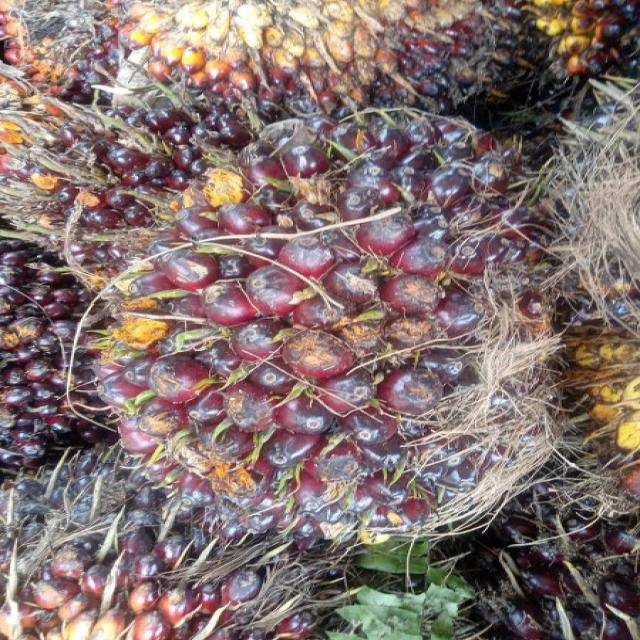fraksi 1: (75, 128, 632, 564)
